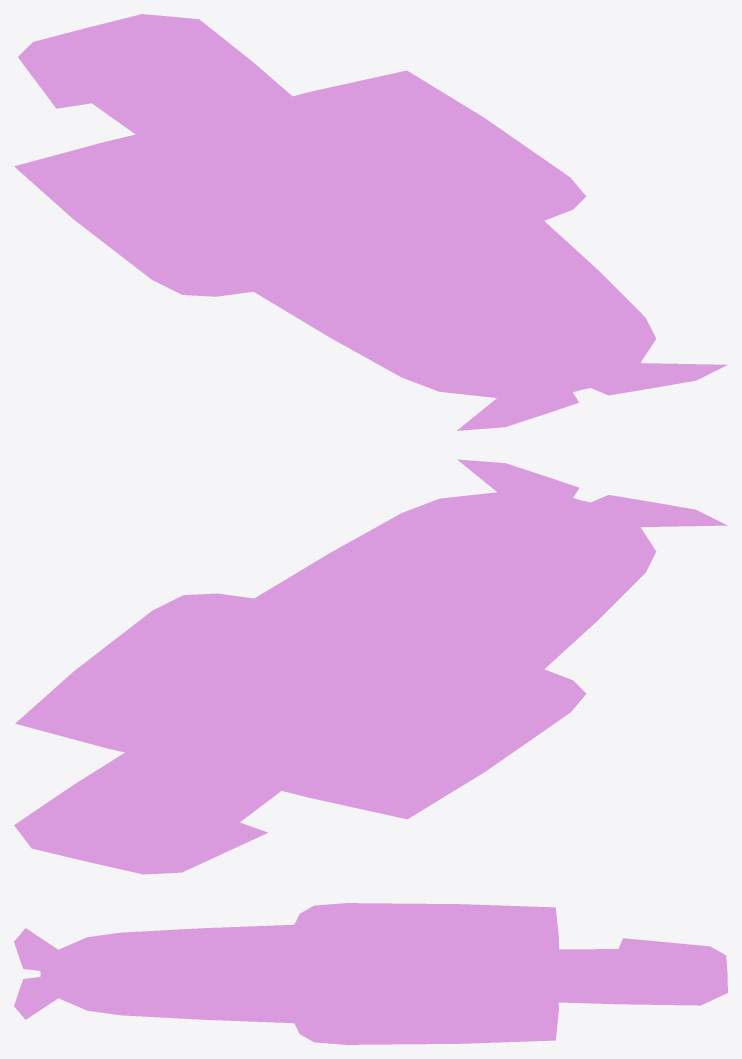
File: body_draft.fbx
3 renders of one model, top to bottom at view 1: azimuth 30°, elevation 25°; view 2: azimuth 150°, elevation 25°; view 3: azimuth 270°, elevation 25°, orthographic. The views are drawn at different scales.
Visible parts, largest first — view 1: body_flat; view 2: body_flat; view 3: body_flat.
Part boxes in pixels (<box>): body_flat: <box>14,14,727,430</box>; body_flat: <box>14,459,726,874</box>; body_flat: <box>14,903,727,1044</box>.
Bounding box in the file's own units: 3.37 × 0 × 7.17.
